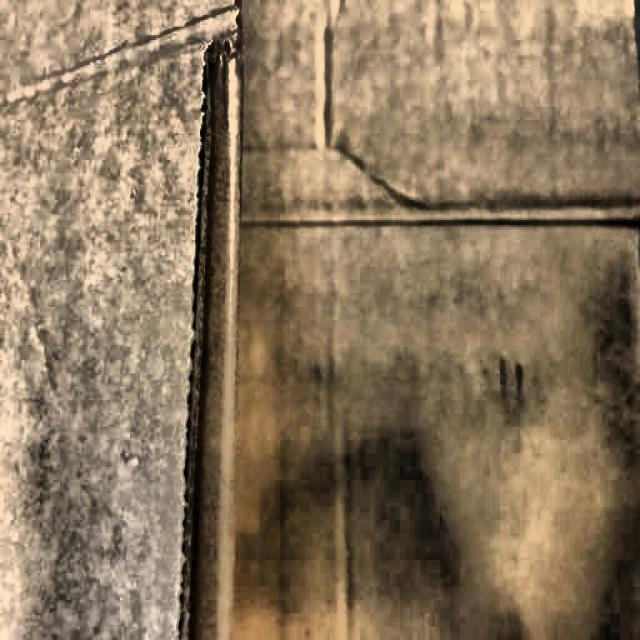cardboard: (4, 6, 544, 640)
